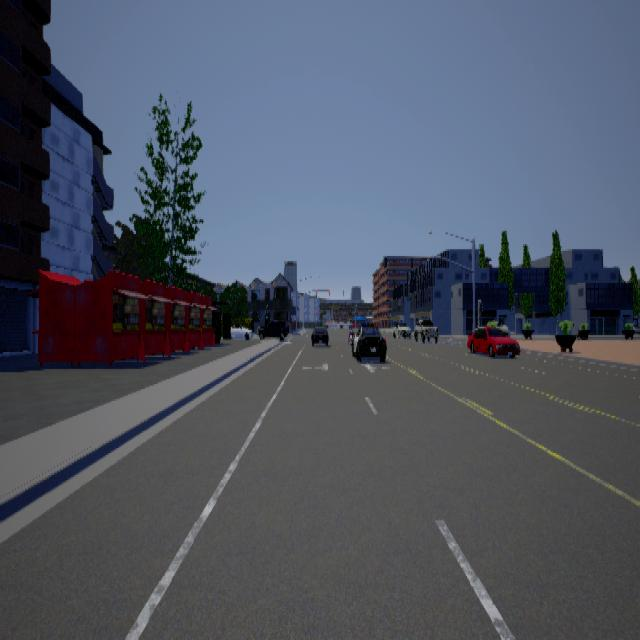vehicle: (468, 322, 522, 357), (350, 322, 388, 360), (415, 317, 440, 342), (310, 322, 333, 347), (393, 320, 414, 339)
